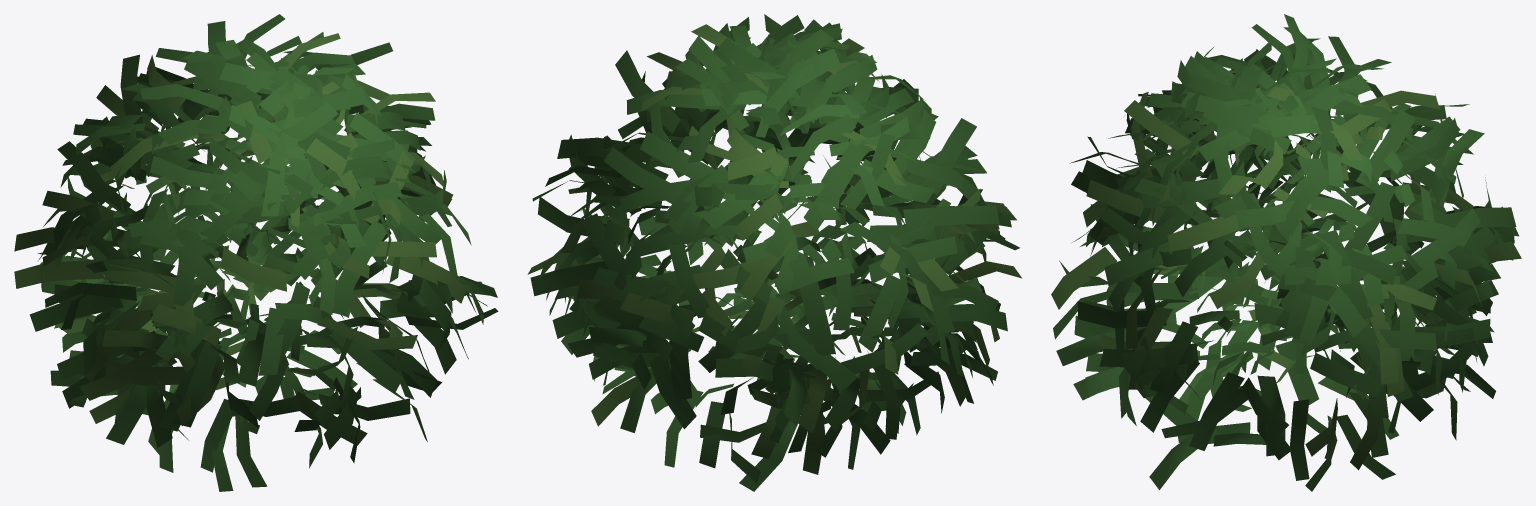
File: arbusto_redondo_2.glb
3 renders of one model, left to right at view 1: azimuth 30°, elevation 25°; view 2: azimuth 150°, elevation 25°; view 3: azimuth 270°, elevation 25°, orthographic.
Parts seen in each view (by area): view 1: arbusto_redondo_2; view 2: arbusto_redondo_2; view 3: arbusto_redondo_2.
Boxes of the visible parts, x1,y1,x2,y2 form: arbusto_redondo_2: [14, 14, 498, 491]; arbusto_redondo_2: [527, 14, 1022, 491]; arbusto_redondo_2: [1051, 14, 1521, 491].
Bounding box in the file's own units: 0.7201 × 0.6832 × 0.7052.
